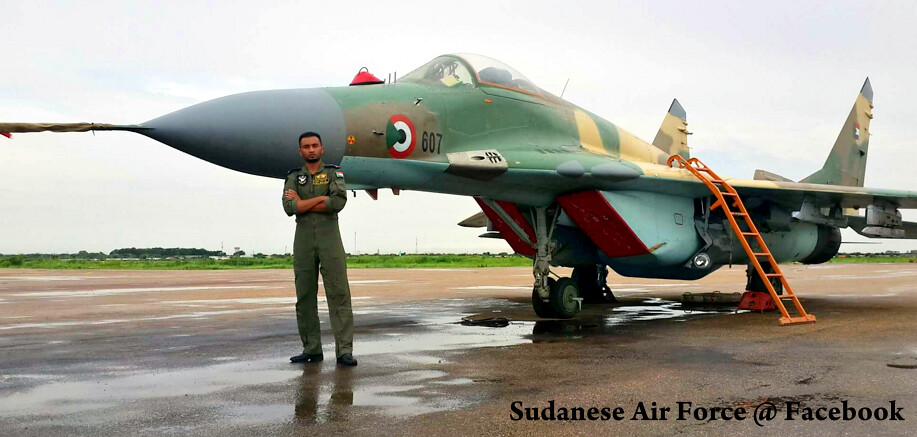Mig-29: (97, 5, 907, 327)
